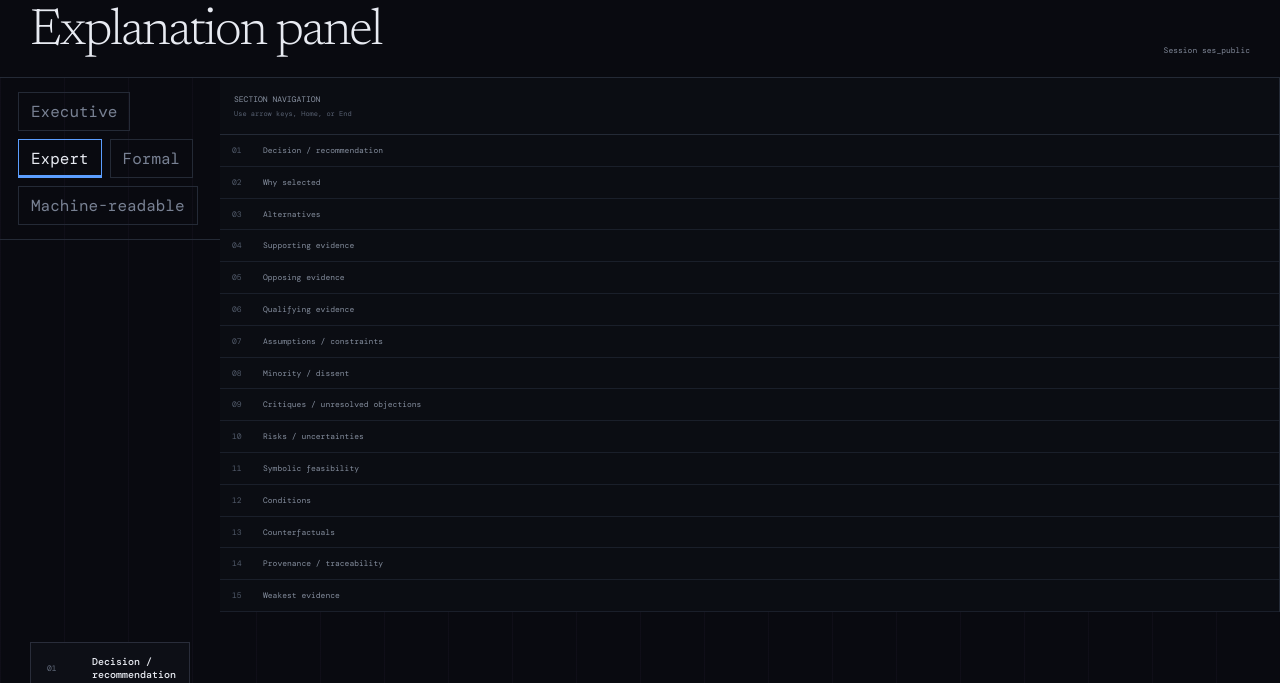
Test case: ExplanationPage › offers executive, expert, formal, and machine-readable views over one response
Click the button "Executive": (74, 112) top-left (18, 92), bottom-right (130, 131)
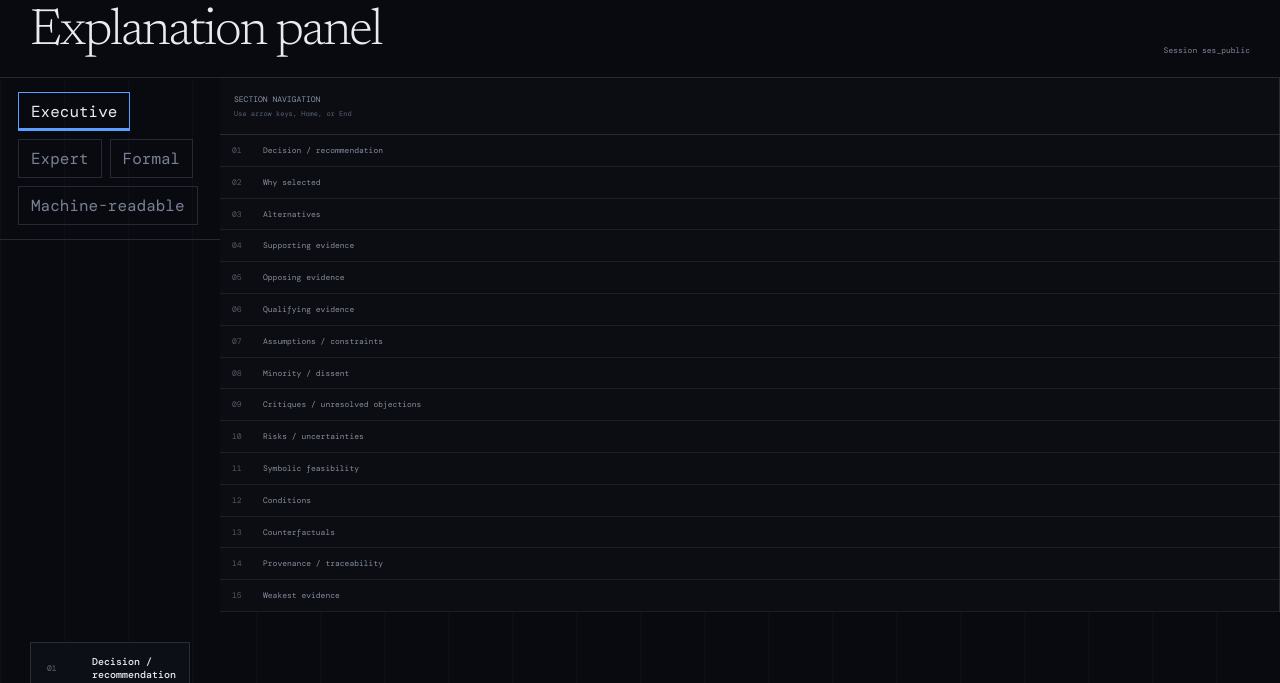
Click the button "Formal": (151, 159) top-left (110, 139), bottom-right (193, 178)
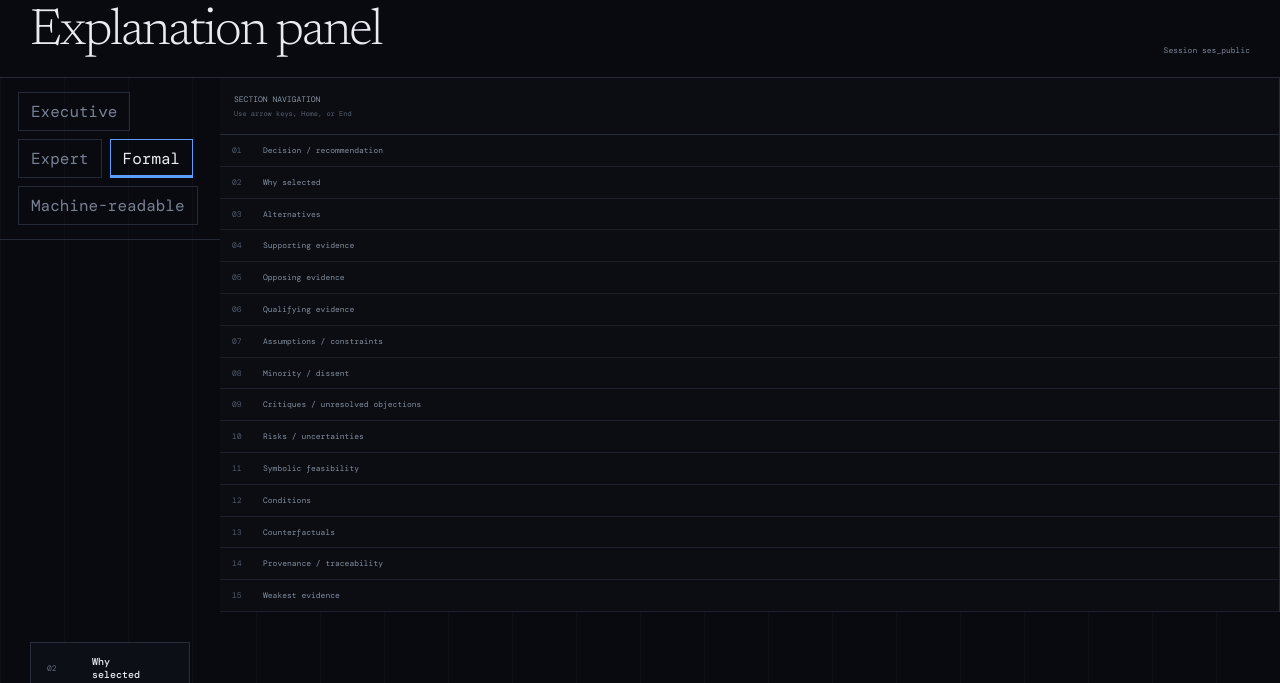
Click the button "Machine-readable": (108, 206) top-left (18, 186), bottom-right (198, 225)
(page scrolled)
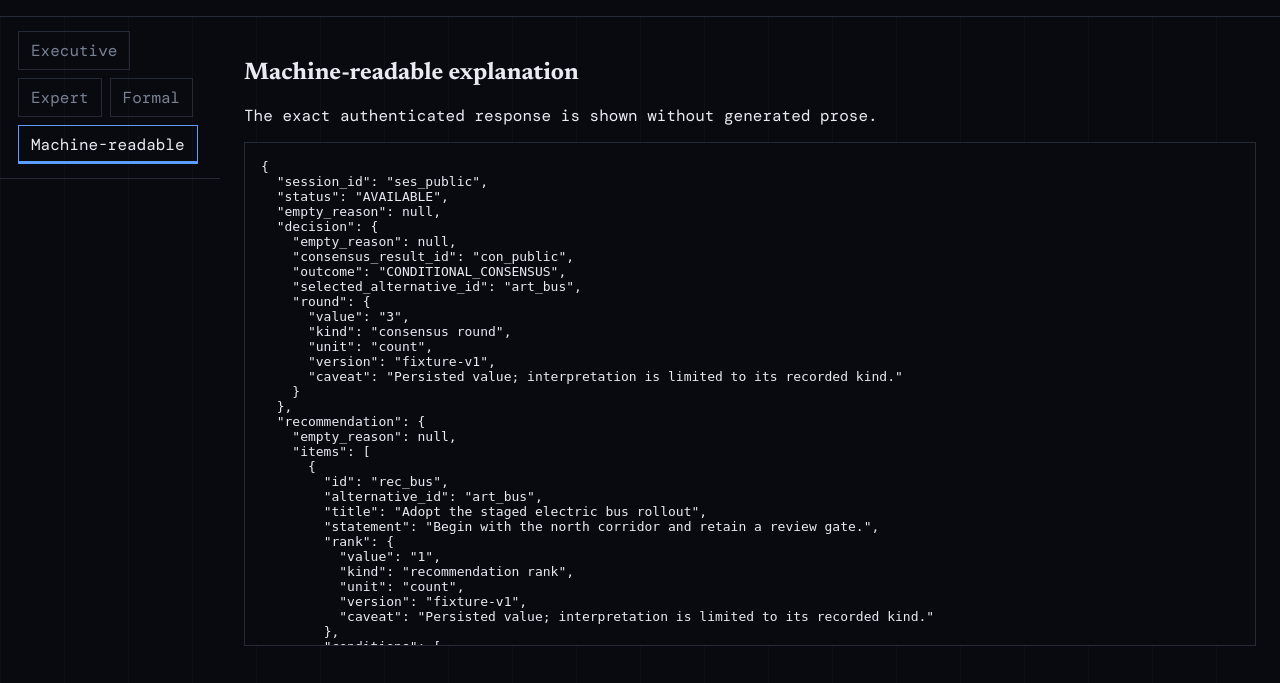
Now the heading "Machine-readable explanation" is shown, box top-left (244, 61), bottom-right (579, 85)
